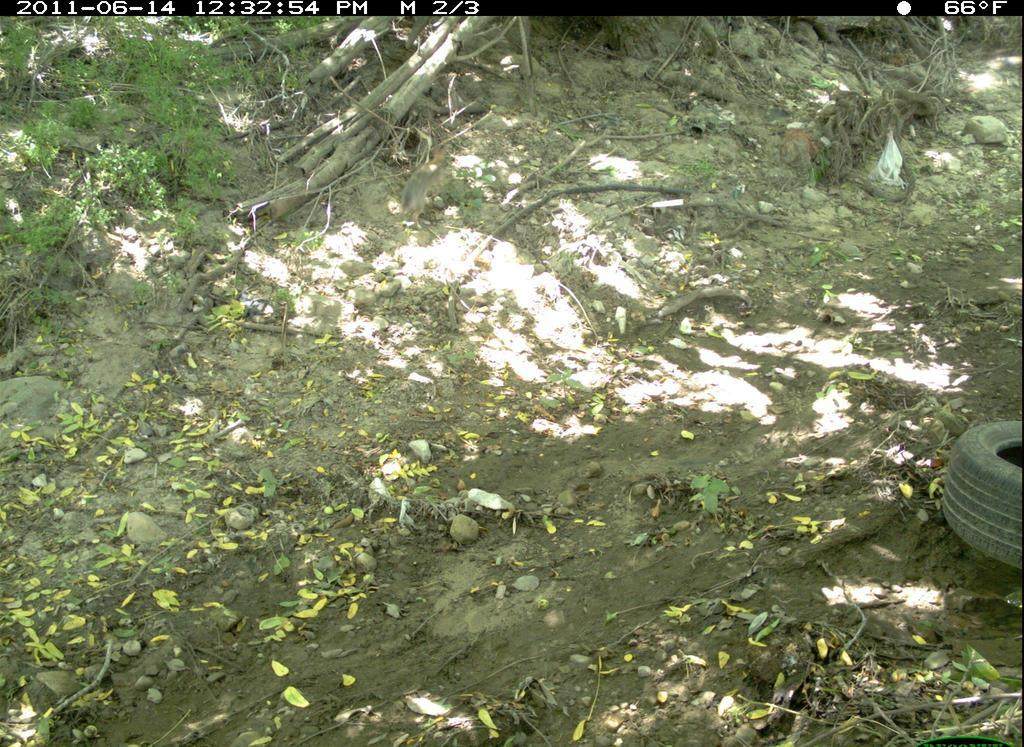rabbit: (396, 137, 457, 237)
